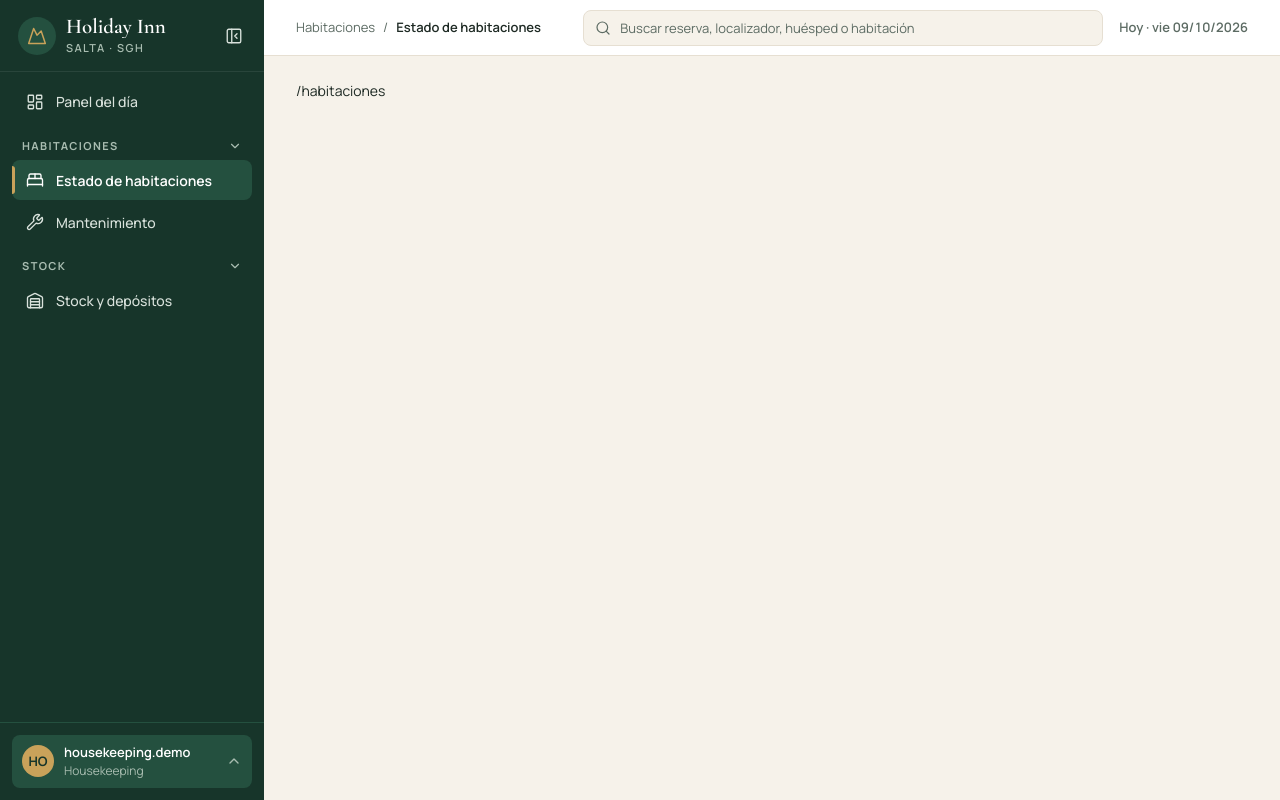
Test case: Layout — barra superior › el buscador lleva a /reservas?q= con Enter
The width and height of the screenshot is (1280, 800).
Type "Pérez 401" into the search field labelled "Buscar reserva, localizador, huésped o habitación" at (843, 28), box [583,10,1103,46]
Then press Enter
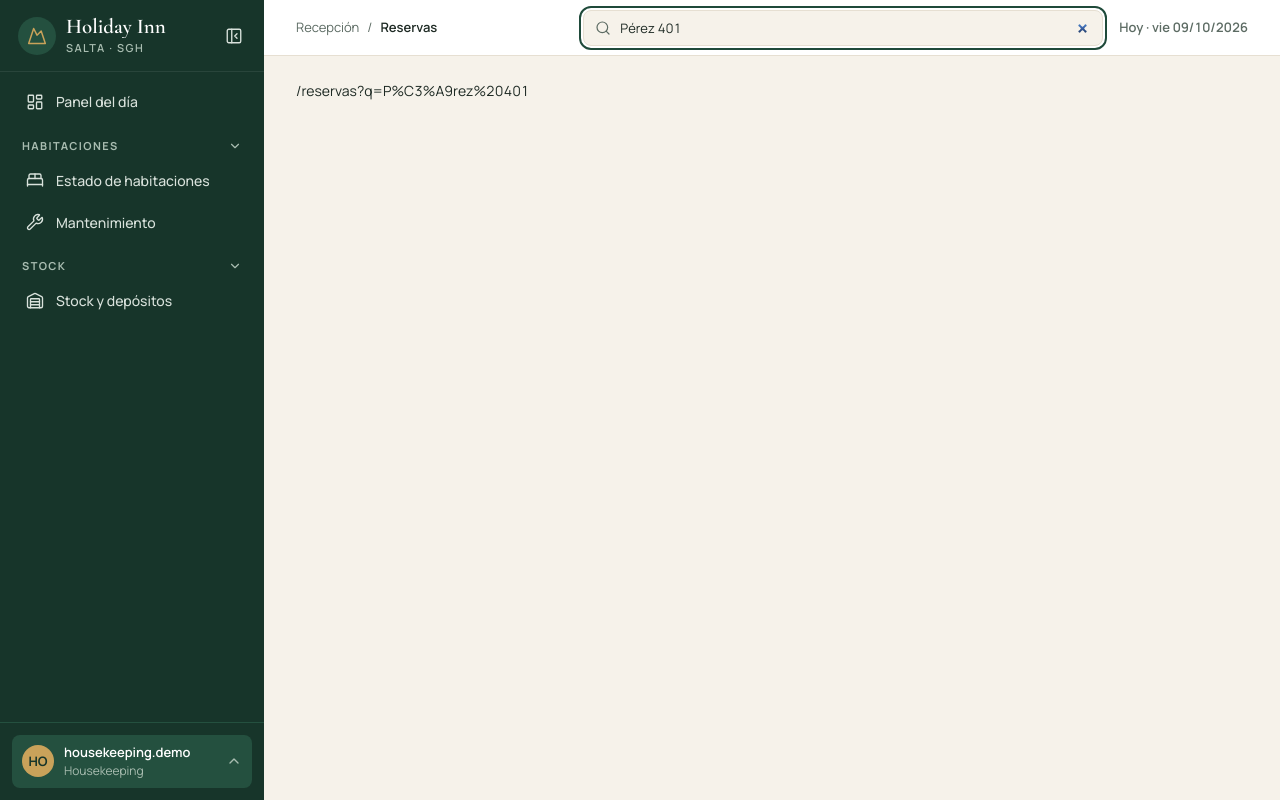
Expected: the text with test id "ubicacion" reads "/reservas?q=P%C3%A9rez%20401", [296,81,530,100]
